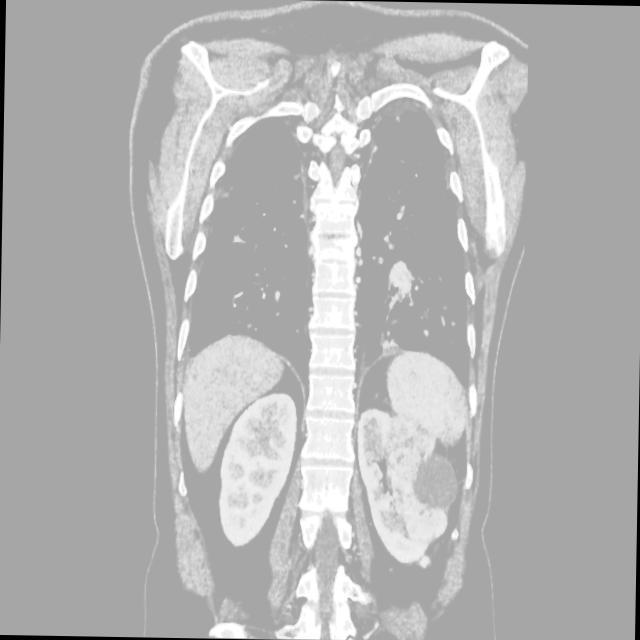TUMOR: (81, 336, 557, 543)
